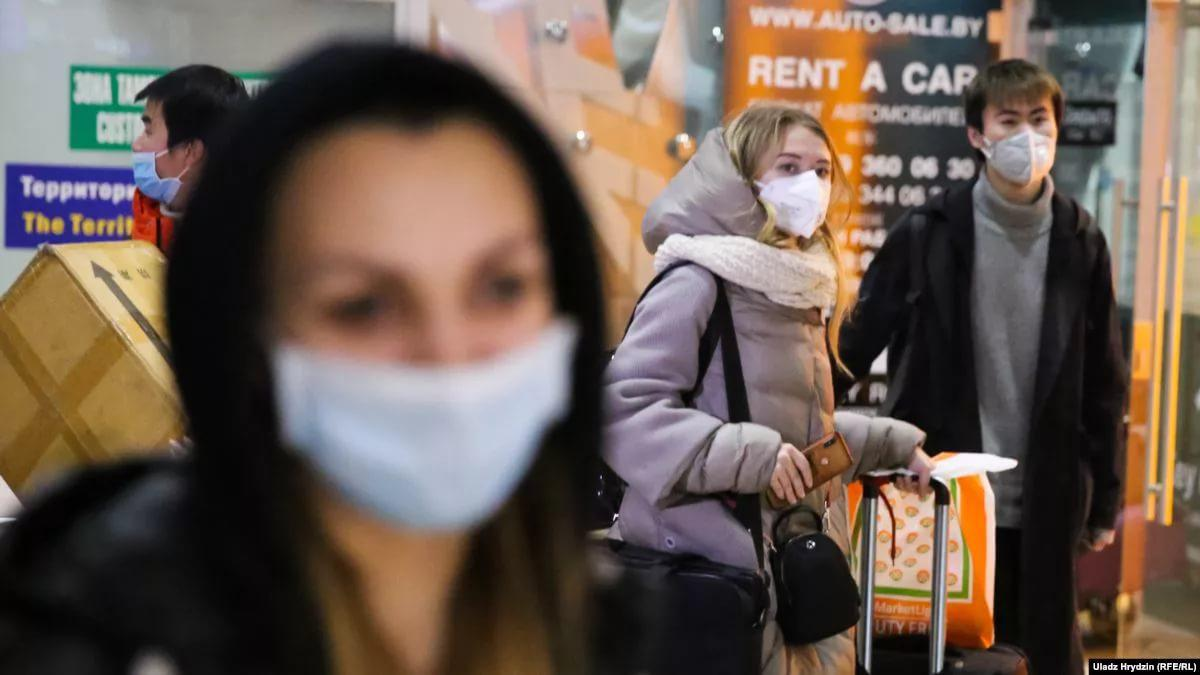mask: (258, 177, 596, 535), (759, 124, 834, 236), (979, 98, 1058, 187)
poor: (124, 101, 188, 215)
